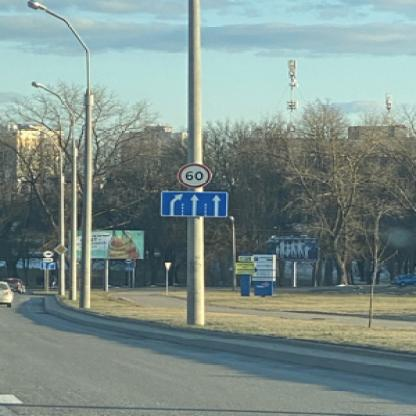Speed Limit 60: (180, 162, 210, 188)
